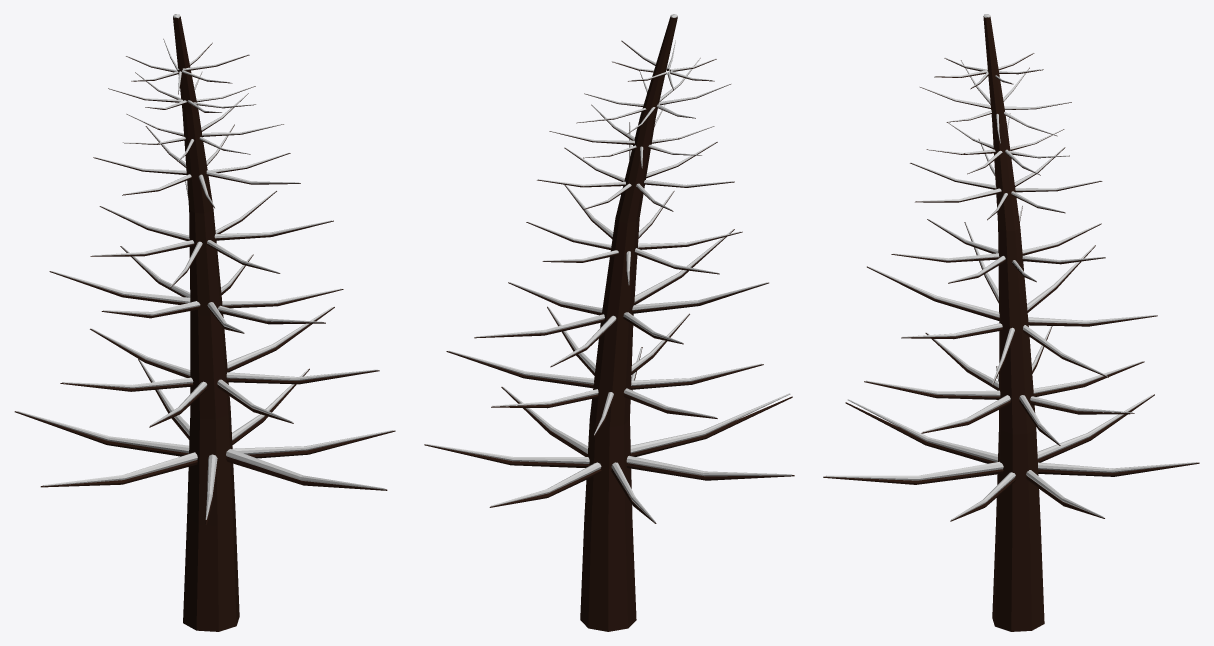
Rendered from Dead tree002.fbx.
The picture shows the model from 3 angles, left to right: view 1: azimuth 30°, elevation 25°; view 2: azimuth 150°, elevation 25°; view 3: azimuth 270°, elevation 25°; orthographic projection. The views are drawn at different scales.
Visible parts, largest first — view 1: Cylinder.000; view 2: Cylinder.000; view 3: Cylinder.000.
Boxes of the visible parts, <box> form: Cylinder.000: <box>14,14,395,631</box>; Cylinder.000: <box>424,14,794,631</box>; Cylinder.000: <box>823,14,1199,631</box>.
Size of the model in its own units: 1299 by 2373 by 1388.
